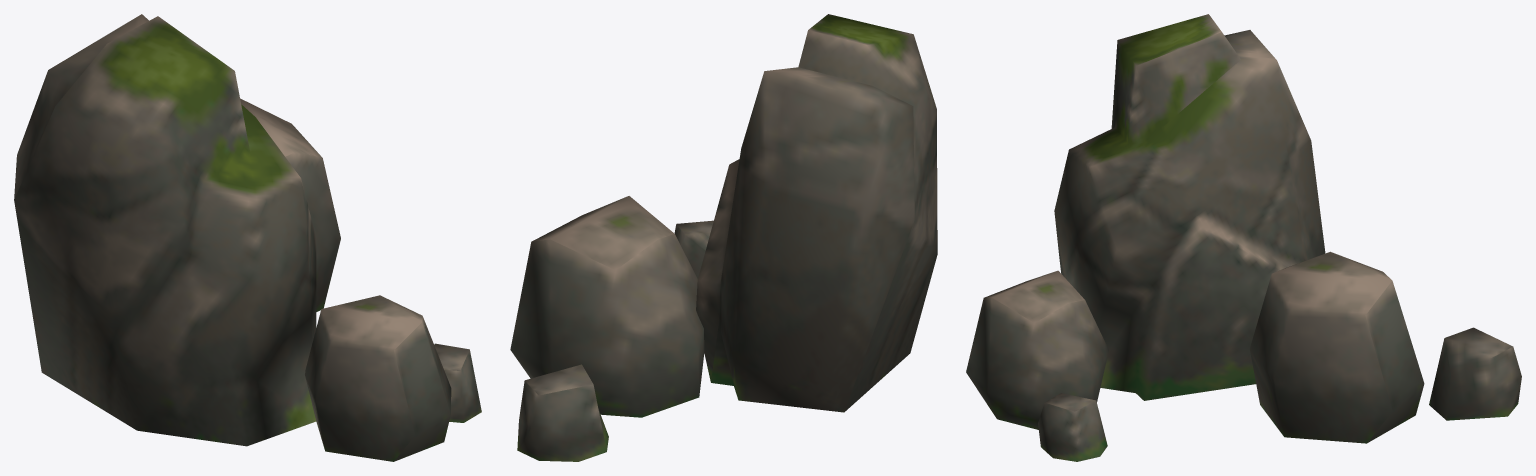
File: shrine_wj004_07.FBX
3 renders of one model, left to right at view 1: azimuth 30°, elevation 25°; view 2: azimuth 150°, elevation 25°; view 3: azimuth 270°, elevation 25°, orthographic. The views are drawn at different scales.
Parts seen in each view (by area): view 1: shrine_wj004_07; view 2: shrine_wj004_07; view 3: shrine_wj004_07.
Part boxes in pixels (<box>): shrine_wj004_07: <box>14,14,481,461</box>; shrine_wj004_07: <box>510,14,937,461</box>; shrine_wj004_07: <box>966,14,1521,461</box>.
Size of the model in its own units: 124 by 124 by 189.
Materials: 1 (1 with a texture image).
